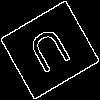U: (25, 25, 78, 83)
